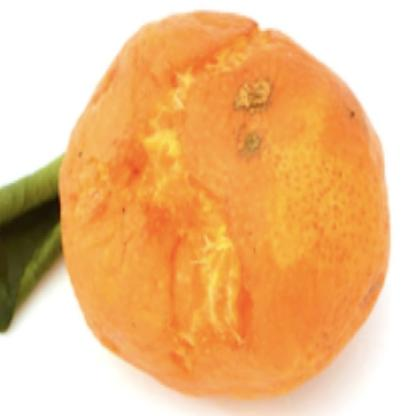rotten: (59, 11, 390, 405)
